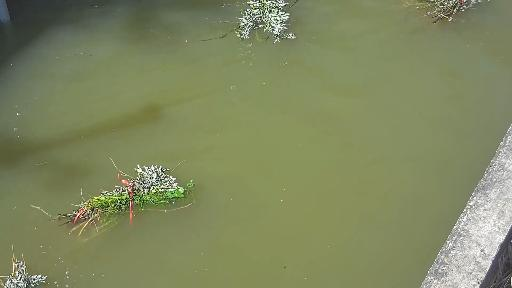twig: (28, 160, 202, 231), (231, 0, 300, 40), (403, 0, 489, 26), (0, 251, 50, 288)
